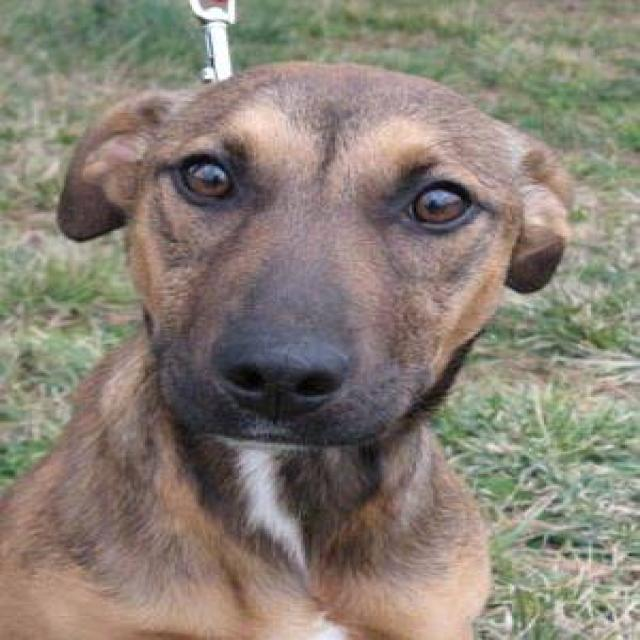Dog: (64, 35, 596, 454)
